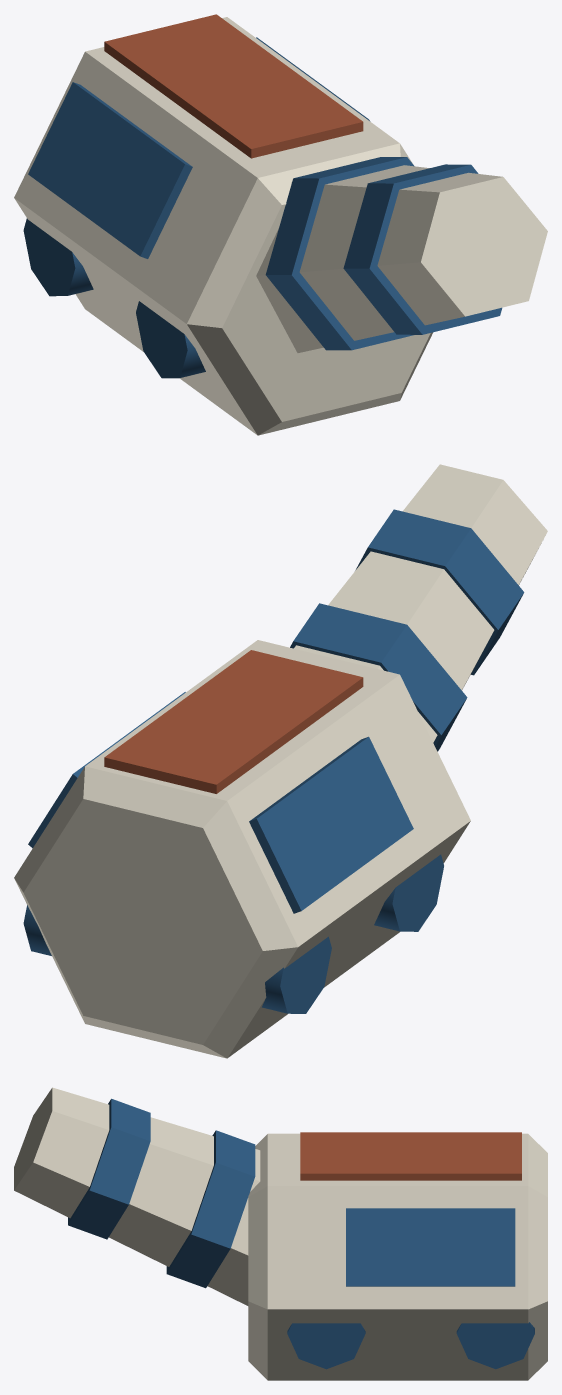
Rendered from rm2_thorax.obj.
3 views of the same model, one above another, from view 1: azimuth 30°, elevation 25°; view 2: azimuth 150°, elevation 25°; view 3: azimuth 270°, elevation 25° (orthographic). The views are drawn at different scales.
Visible parts, largest first — view 1: rm2_thorax; view 2: rm2_thorax; view 3: rm2_thorax.
Part boxes in pixels (left/top/right/bottom): rm2_thorax: left=14, top=14, right=547, bottom=435; rm2_thorax: left=14, top=464, right=547, bottom=1058; rm2_thorax: left=14, top=1087, right=547, bottom=1380.
Size of the model in its own units: 0.38 by 0.432 by 0.8194.
